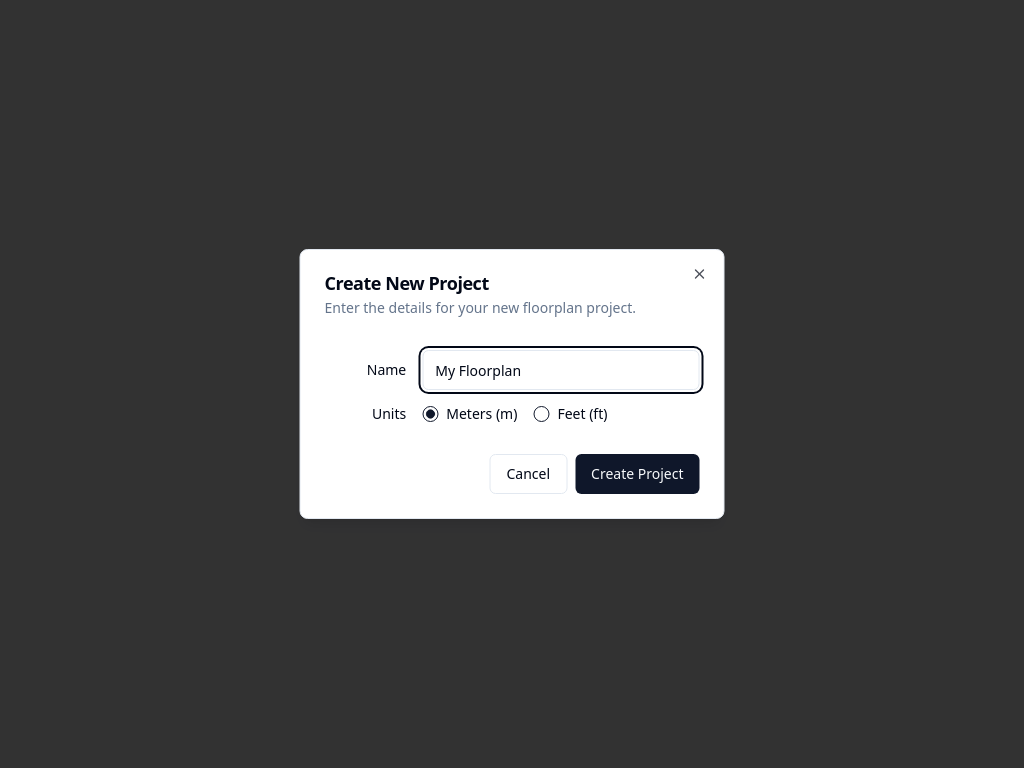
Test: NewProjectDialog › validates empty name
Note: Clear name (default is "My Floorplan")
Clear the field labelled "Name" at coordinates (561, 370), box [422,350,700,390]
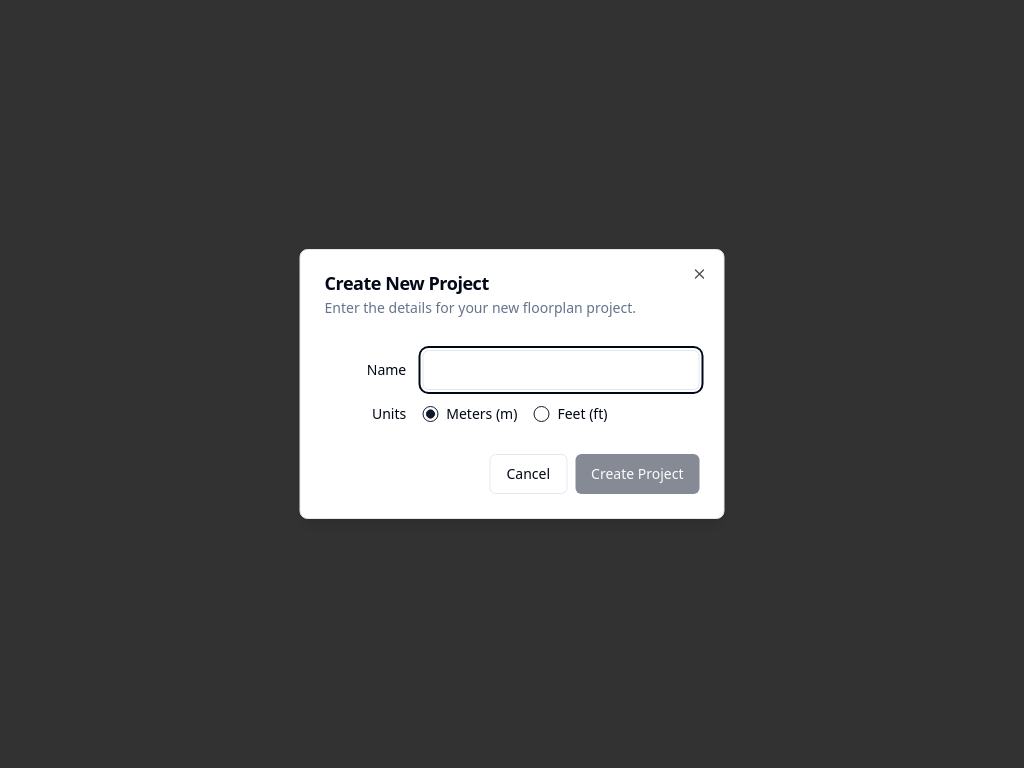
Expected: the button "Create Project" is disabled, [575,454,700,494]
